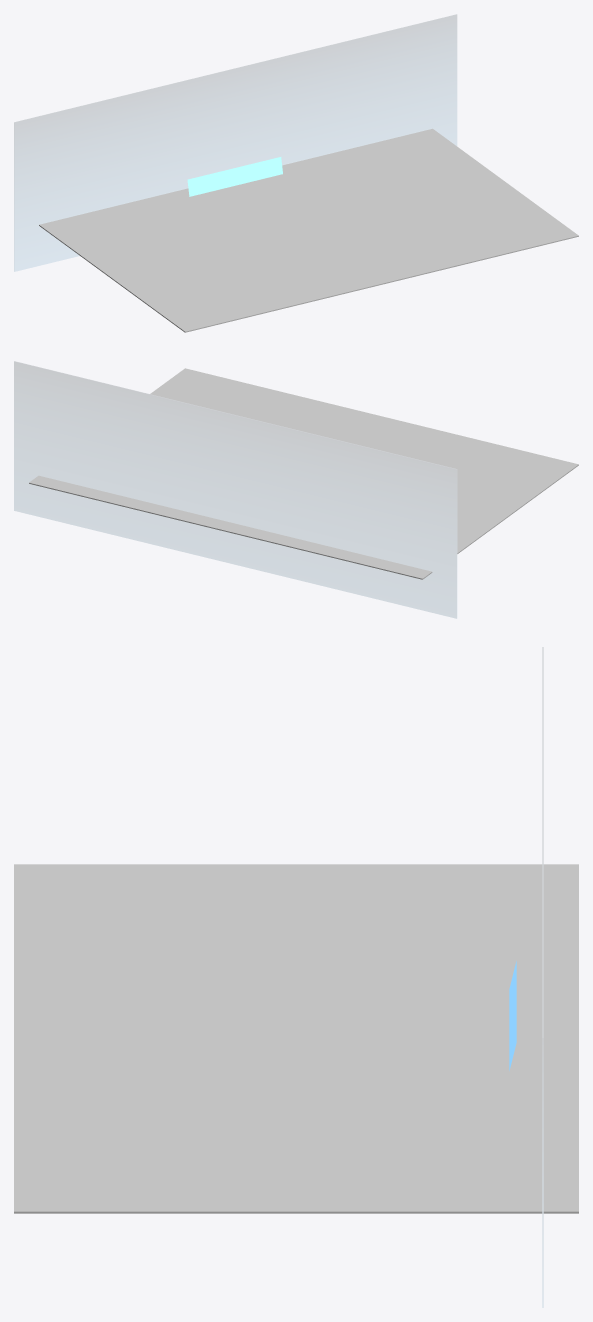
Rendered from f_argentina.glb.
The picture shows the model from 3 angles, top to bottom: view 1: azimuth 30°, elevation 25°; view 2: azimuth 150°, elevation 25°; view 3: azimuth 270°, elevation 25°; orthographic projection. The views are drawn at different scales.
Visible parts, largest first — view 1: Ground contact / transparent shadow receiver.054, Sky gradient / editable material.054, Flag cloth / full-bleed source fields.026; view 2: Sky gradient / editable material.054, Ground contact / transparent shadow receiver.054; view 3: Ground contact / transparent shadow receiver.054, Sky gradient / editable material.054.
Part boxes in pixels (left/top/right/bottom): Ground contact / transparent shadow receiver.054: left=39, top=128, right=578, bottom=332; Sky gradient / editable material.054: left=14, top=14, right=457, bottom=271; Flag cloth / full-bleed source fields.026: left=187, top=157, right=282, bottom=196; Sky gradient / editable material.054: left=14, top=361, right=457, bottom=618; Ground contact / transparent shadow receiver.054: left=29, top=368, right=578, bottom=579; Ground contact / transparent shadow receiver.054: left=14, top=864, right=578, bottom=1213; Sky gradient / editable material.054: left=542, top=647, right=543, bottom=1307.
Bounding box in the file's own units: 180 × 58 × 110.
